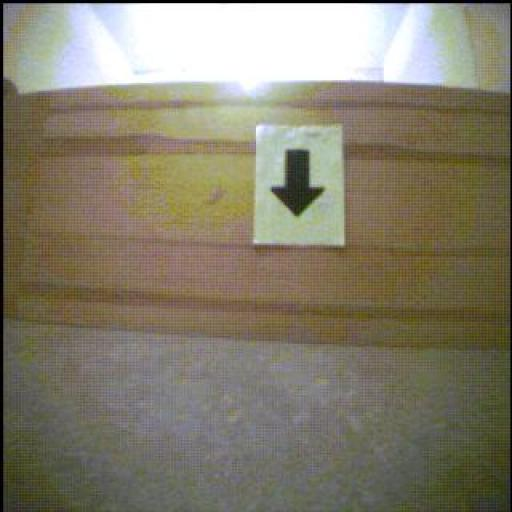arrow: (273, 150, 326, 217)
